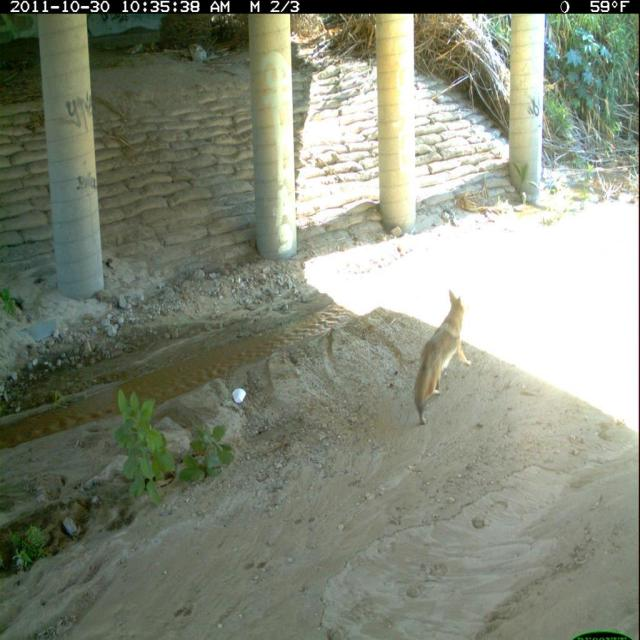coyote: (412, 286, 473, 431)
